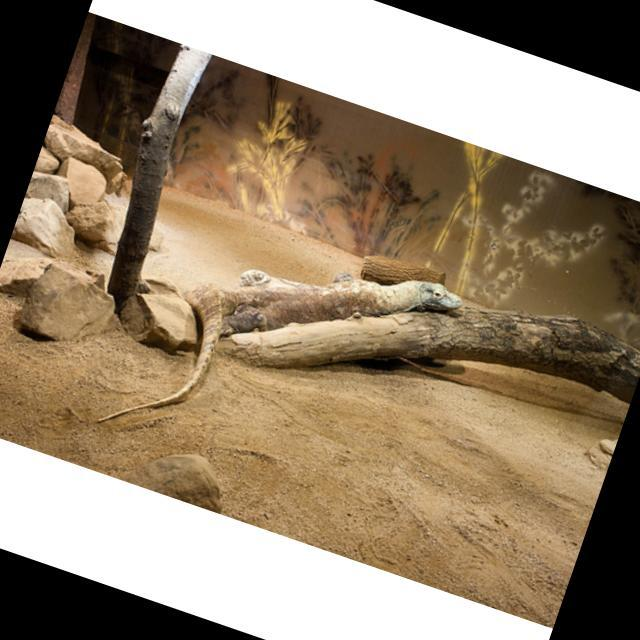KomodoDragon: (97, 191, 468, 522)
